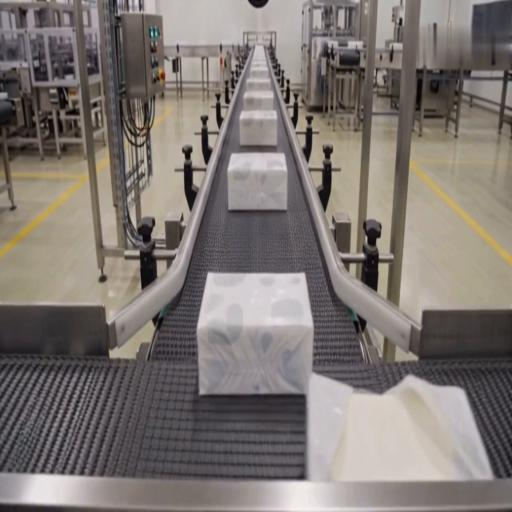defective: (306, 368, 493, 483)
good: (197, 272, 312, 395), (227, 152, 288, 213), (238, 109, 279, 148), (242, 90, 275, 112), (245, 75, 272, 92), (249, 46, 269, 63), (348, 40, 363, 49)
